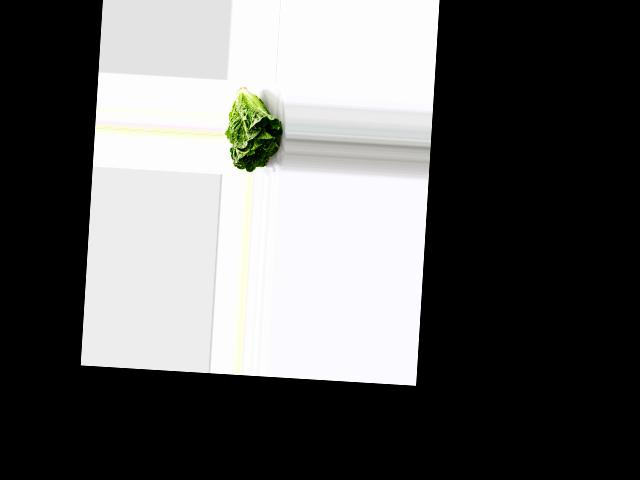lettuce: (222, 88, 285, 172)
